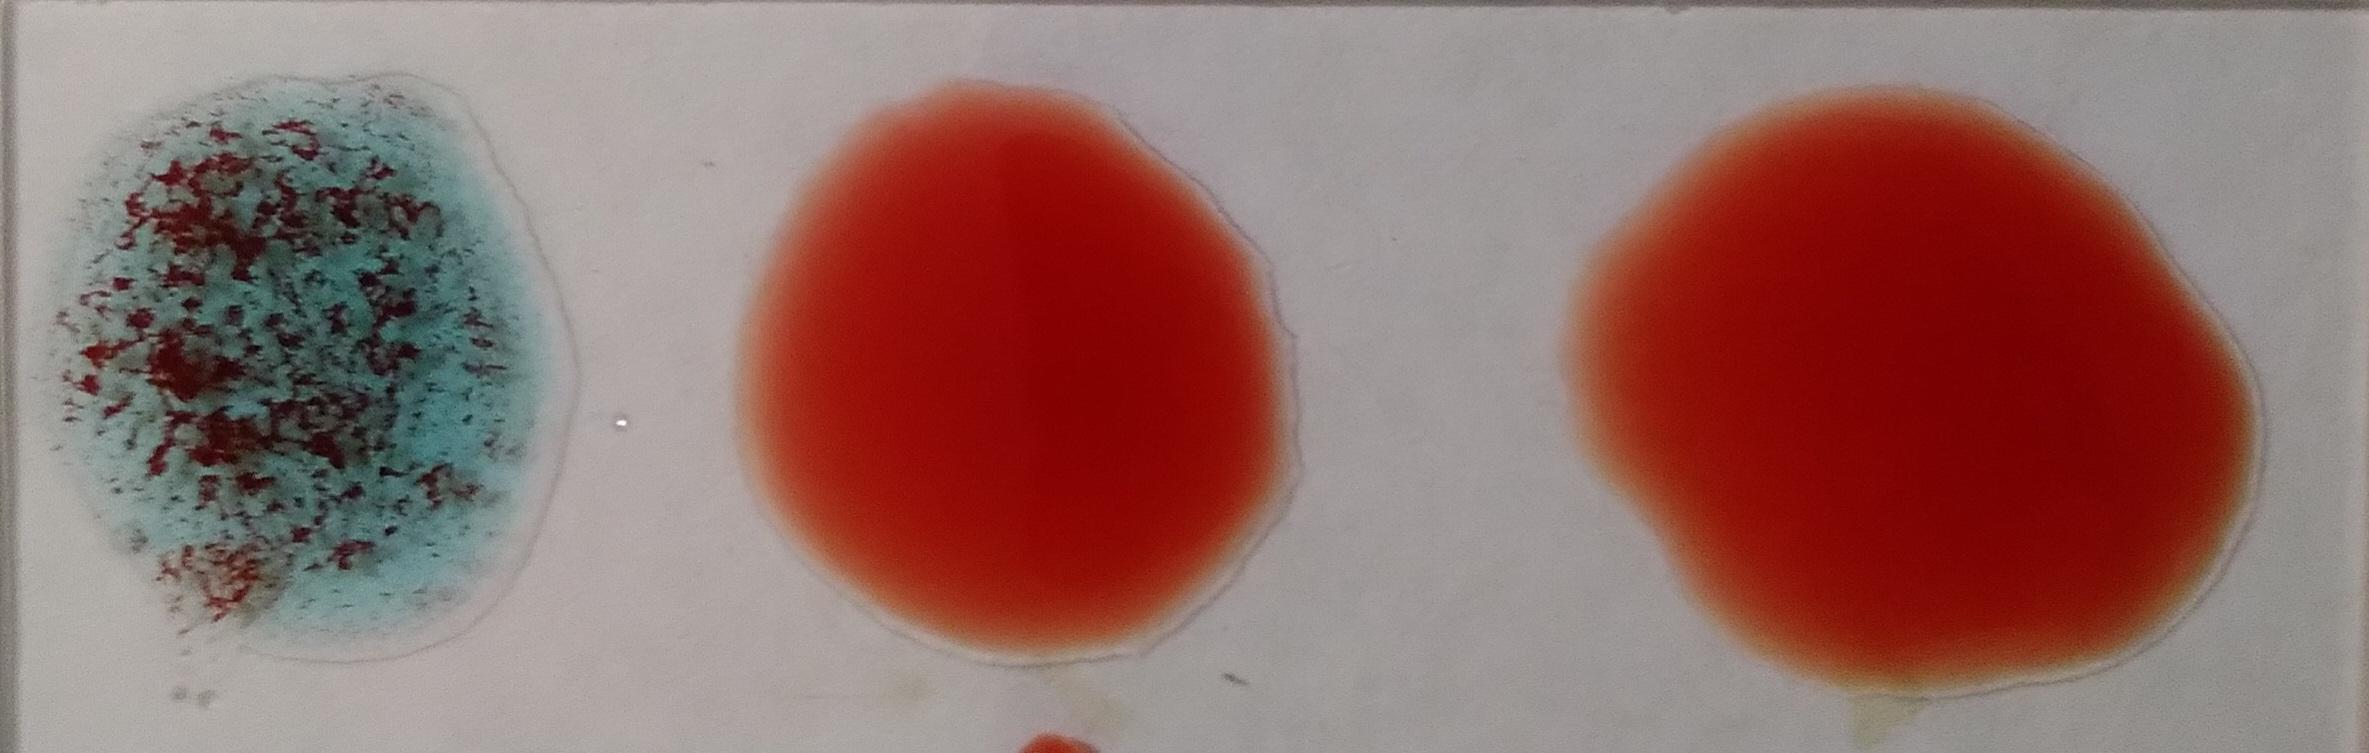A: (42, 71, 567, 656)
